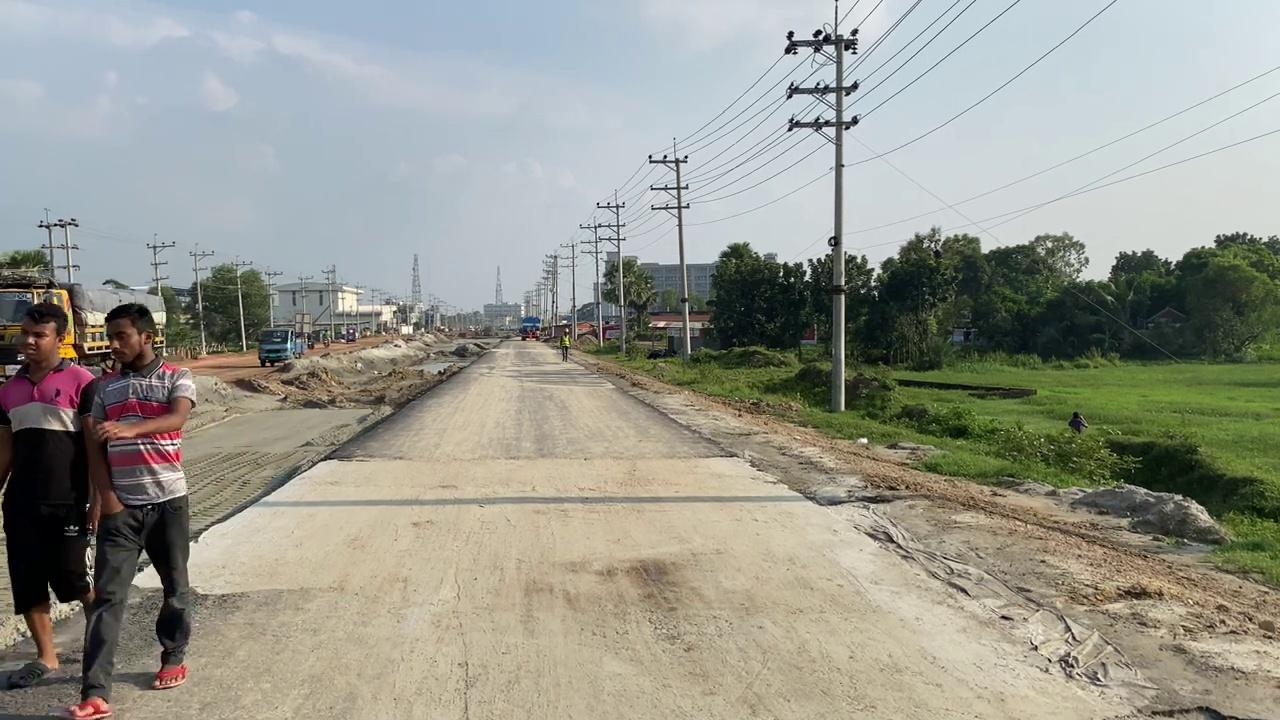Muddy road: (1, 331, 1276, 718)
Pole: (782, 1, 861, 412), (648, 138, 692, 361)
Tree: (0, 270, 167, 379)
